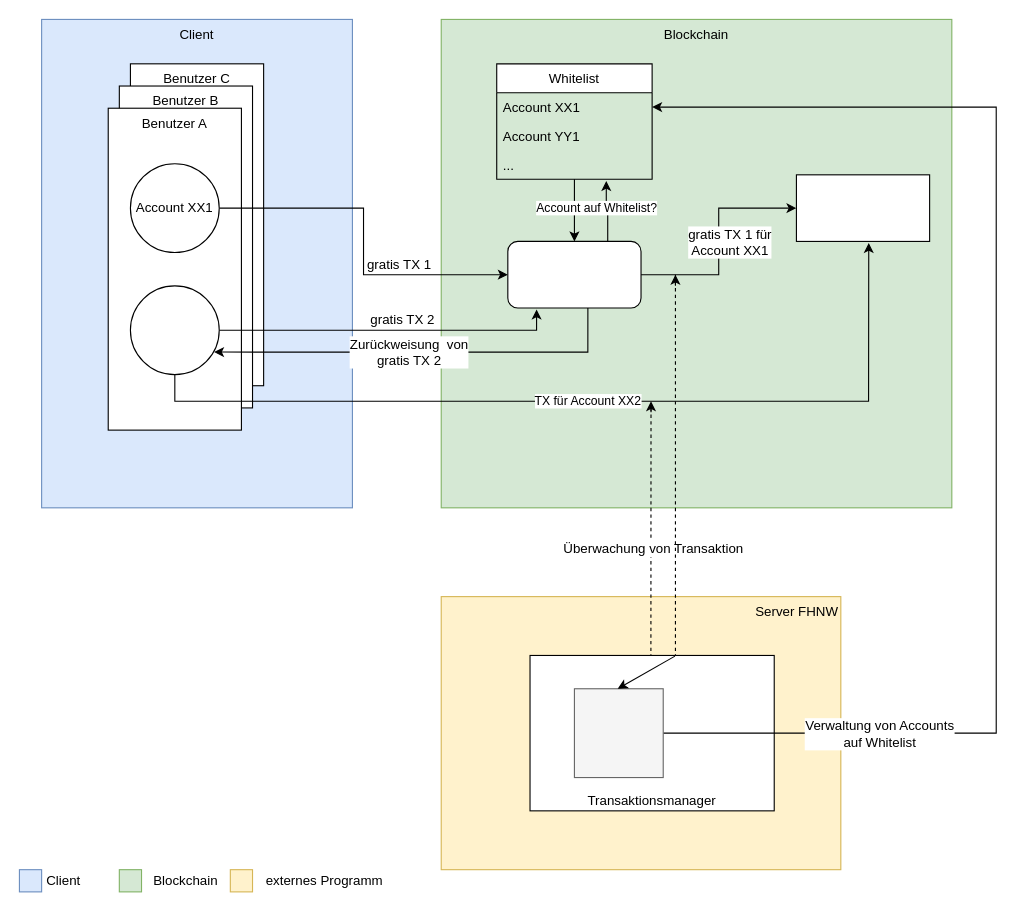
Some shapes in this 1025 by 911 pixel diagram are drawn without their labels. Each missing label, with the centre of its shape:
"Account XX2" goes at (174,330).
"DoS Algorithmus" goes at (618,733).
"Prüfung ob Account auf Whitelist" goes at (574,274).
"Ziel der Transaktion" goes at (862,207).
